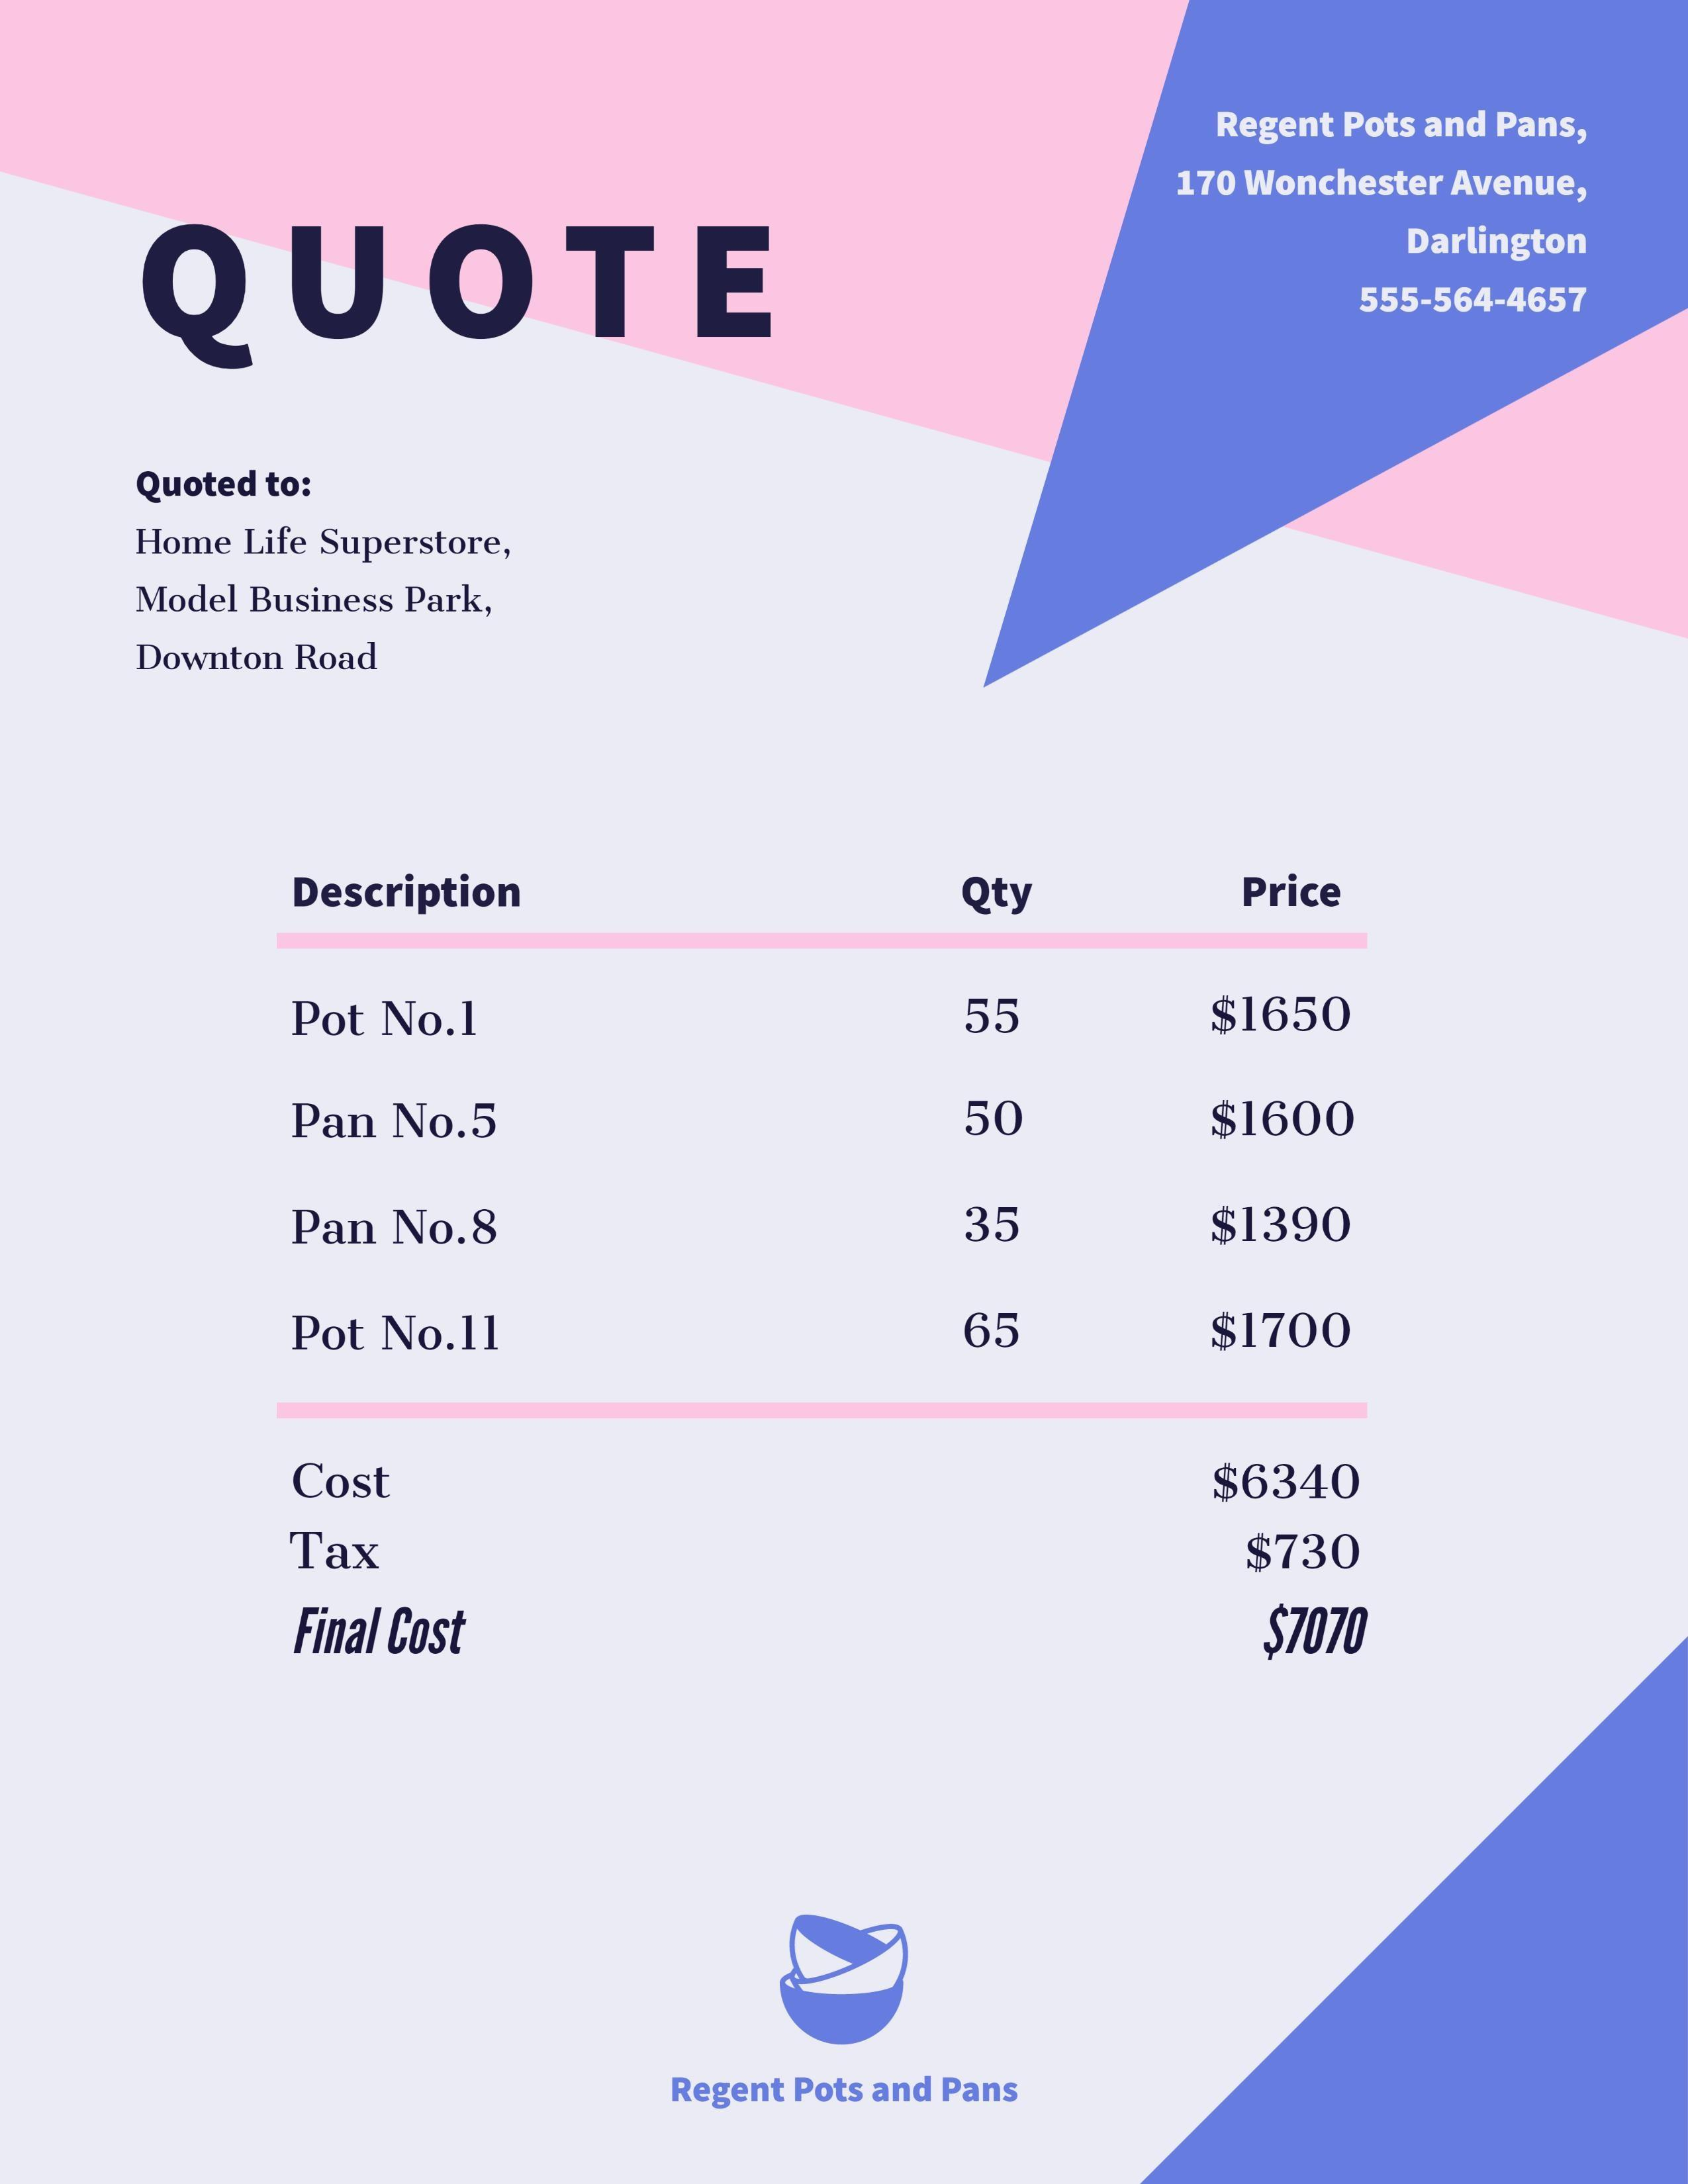ROI: (271, 870, 1379, 1411), (271, 1436, 1374, 1673), (1174, 83, 1615, 358), (128, 463, 557, 700)
